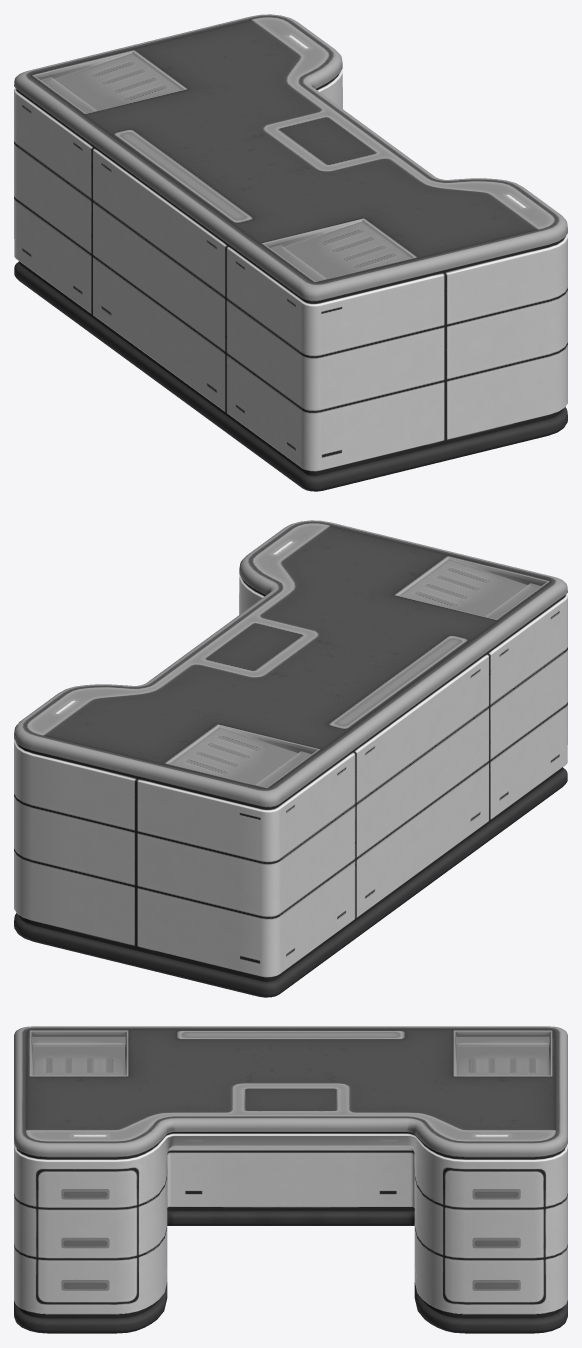
Rendered from SM_LabDesk03_2.FBX.
3 views of the same model, one above another, from view 1: azimuth 30°, elevation 25°; view 2: azimuth 150°, elevation 25°; view 3: azimuth 270°, elevation 25° (orthographic). The views are drawn at different scales.
Parts seen in each view (by area): view 1: SM_LabDesk03_2; view 2: SM_LabDesk03_2; view 3: SM_LabDesk03_2.
Boxes of the visible parts, <box> form: SM_LabDesk03_2: <box>14,14,567,491</box>; SM_LabDesk03_2: <box>14,520,567,997</box>; SM_LabDesk03_2: <box>14,1026,567,1333</box>.
Size of what is drawn, in the model's own units: 126 by 240 by 90.04.
